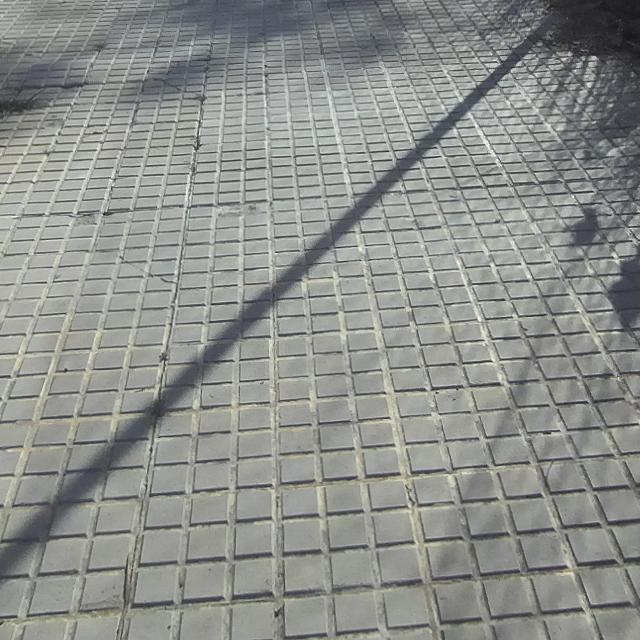calcada_quebrada: (118, 254, 177, 286), (155, 76, 201, 98)
